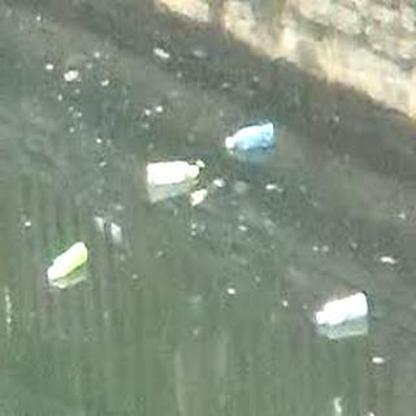plastic bottle: (315, 292, 367, 325), (46, 241, 89, 277), (226, 121, 275, 149)
